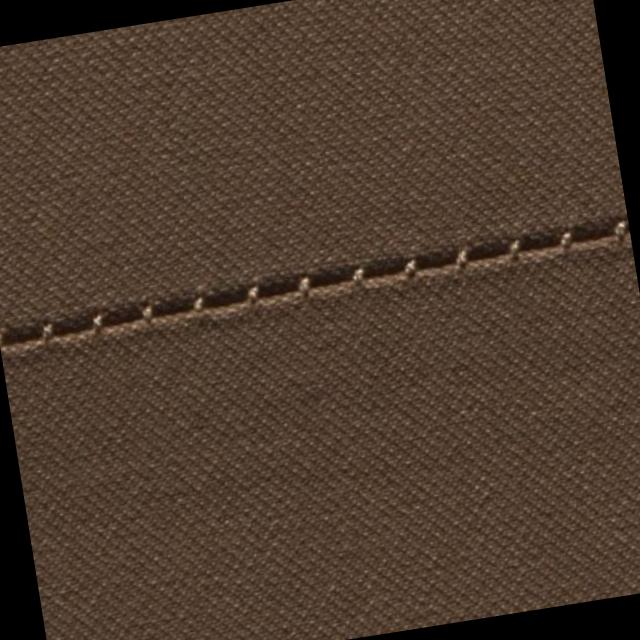gray stitch: (0, 205, 631, 365)
